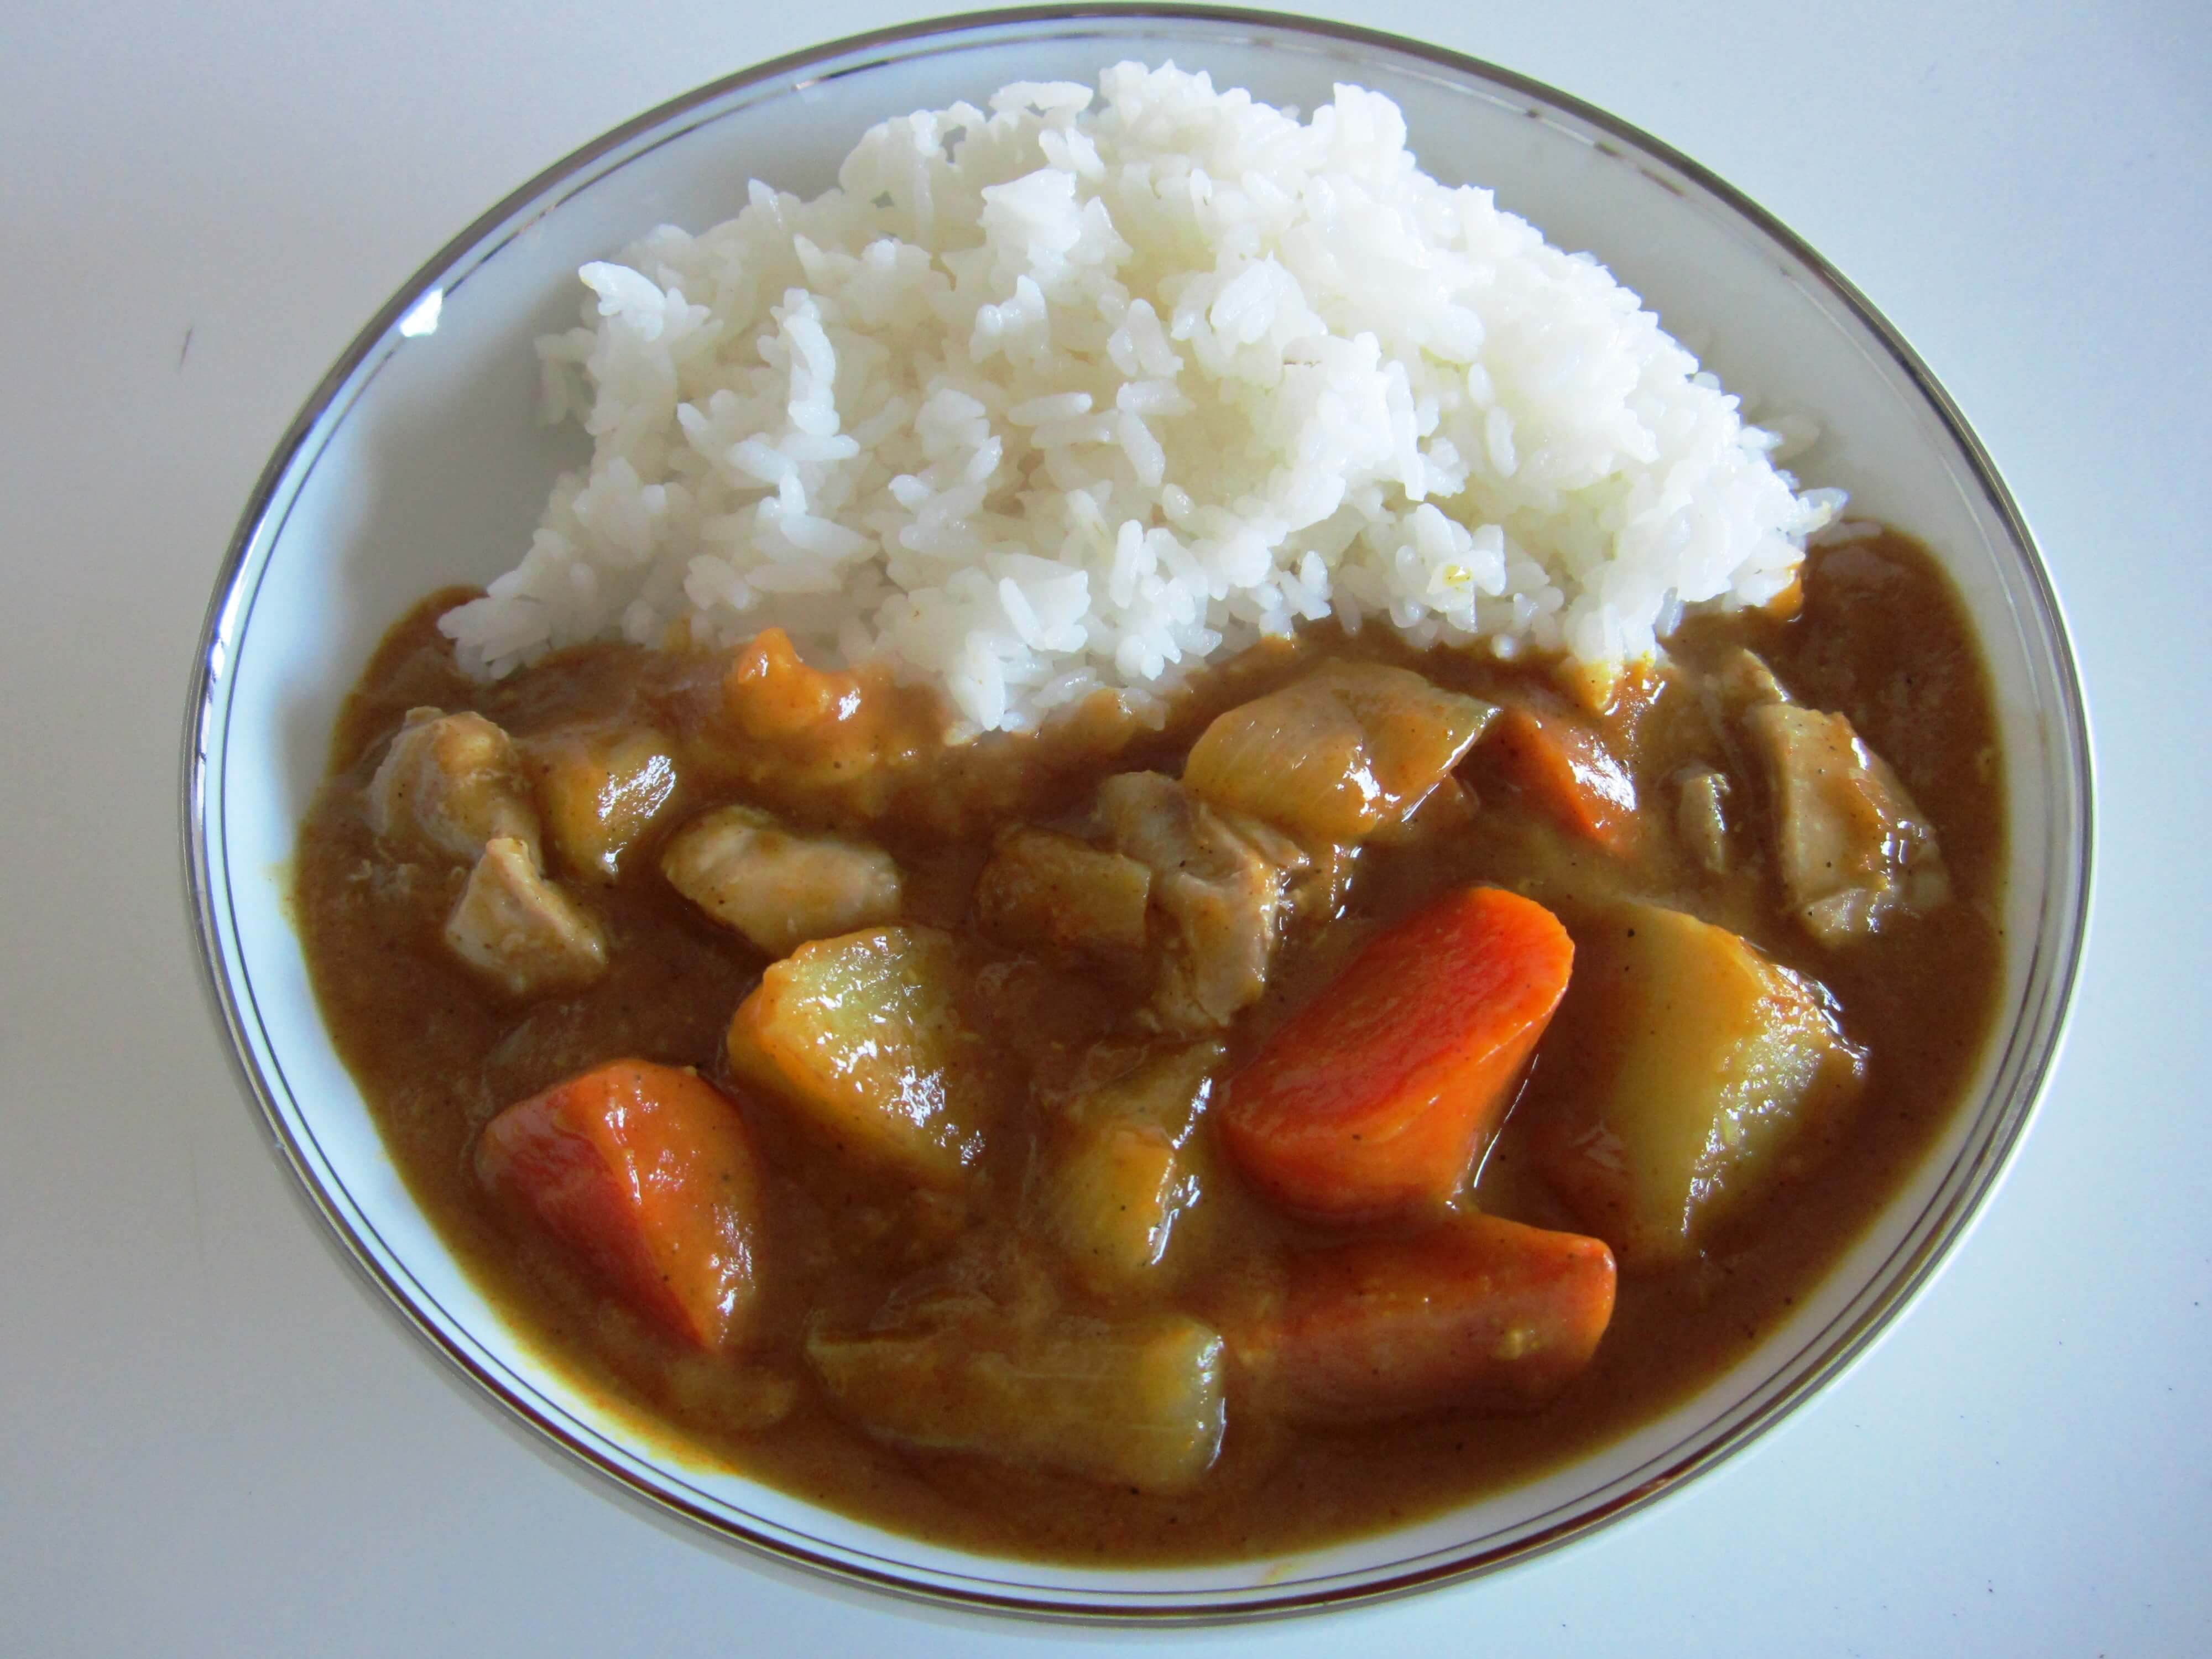curry: (374, 643, 1919, 1438), (820, 638, 1595, 1483), (1336, 577, 2006, 1319), (359, 643, 960, 1380)
